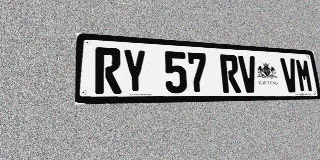5: (164, 51, 188, 93)
7: (186, 52, 209, 93)
M: (295, 59, 314, 92)
R: (95, 47, 122, 94), (219, 54, 241, 93)
V: (238, 55, 259, 93), (280, 58, 299, 92)
Y: (122, 48, 147, 94)
